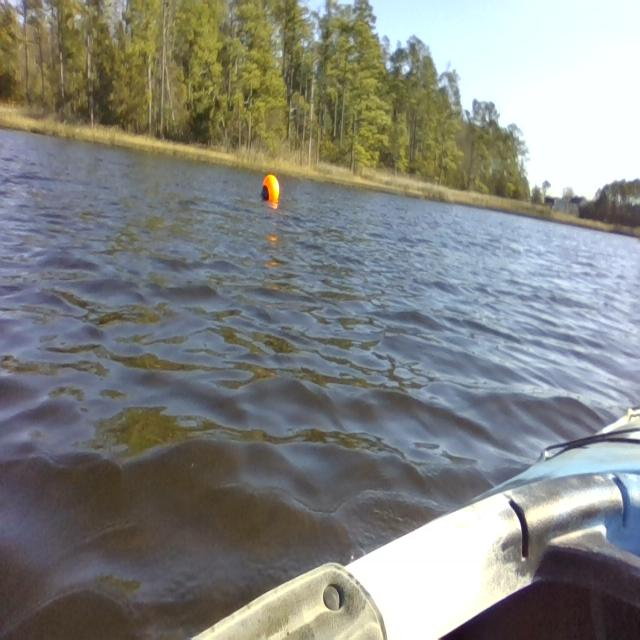Buoy: (257, 172, 283, 211)
